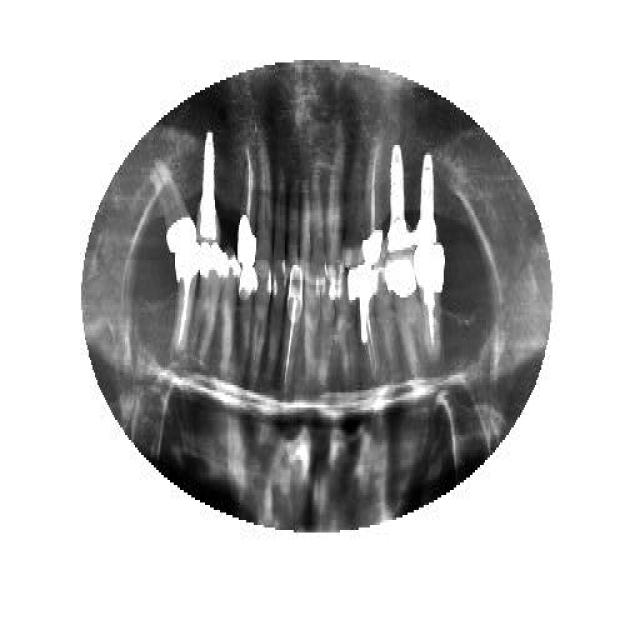Fillings: (384, 252, 428, 372), (149, 158, 199, 252), (188, 243, 226, 365), (238, 265, 258, 380)
Implant: (348, 265, 382, 383), (416, 245, 449, 363), (166, 250, 199, 358), (280, 268, 305, 390), (361, 142, 385, 268), (196, 128, 220, 248), (235, 140, 257, 268), (415, 148, 441, 250), (388, 142, 412, 252)
